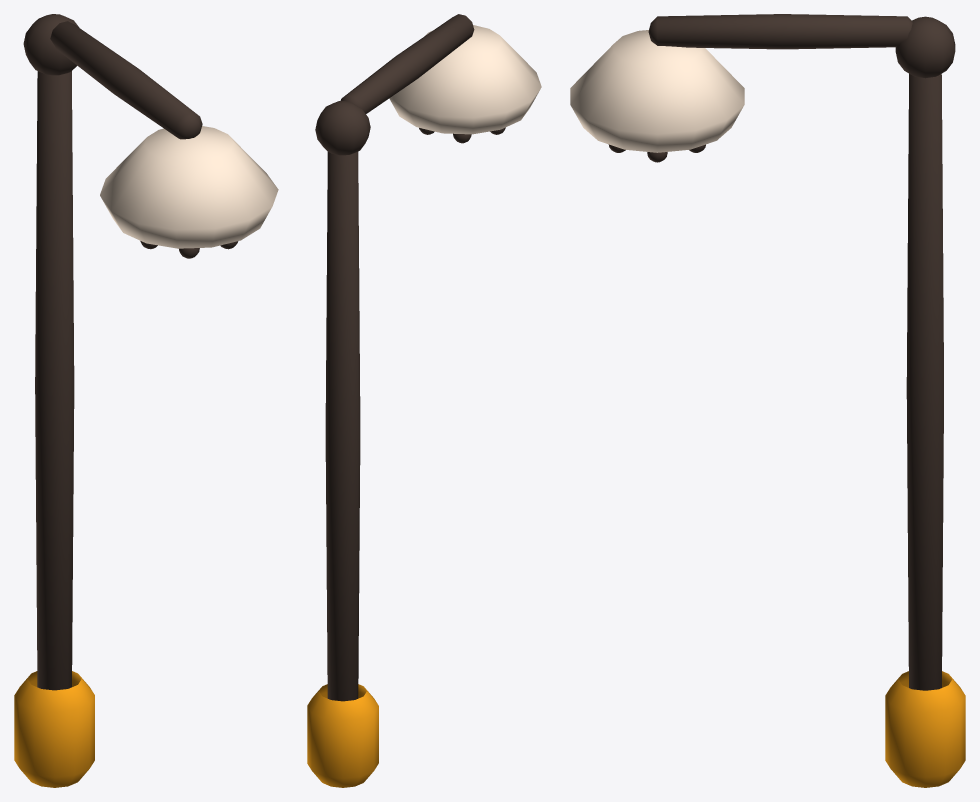
The model's file is duschkopf.glb.
The picture shows the model from 3 angles, left to right: view 1: azimuth 30°, elevation 25°; view 2: azimuth 150°, elevation 25°; view 3: azimuth 270°, elevation 25°; orthographic projection. The views are drawn at different scales.
Visible parts, largest first — view 1: Duschkopf; view 2: Duschkopf; view 3: Duschkopf.
Boxes of the visible parts, <box> form: Duschkopf: <box>14,14,278,787</box>; Duschkopf: <box>307,14,541,787</box>; Duschkopf: <box>570,14,965,787</box>.
Size of the model in its own units: 0.2 by 0.939 by 0.4425.
Materials: 1 (1 with a texture image).
